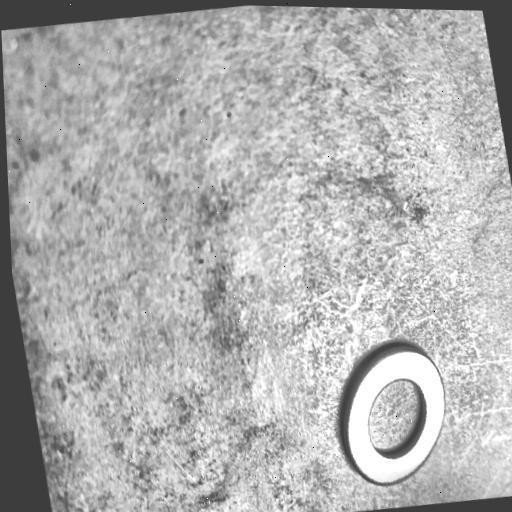Washer: (337, 339, 448, 487)
